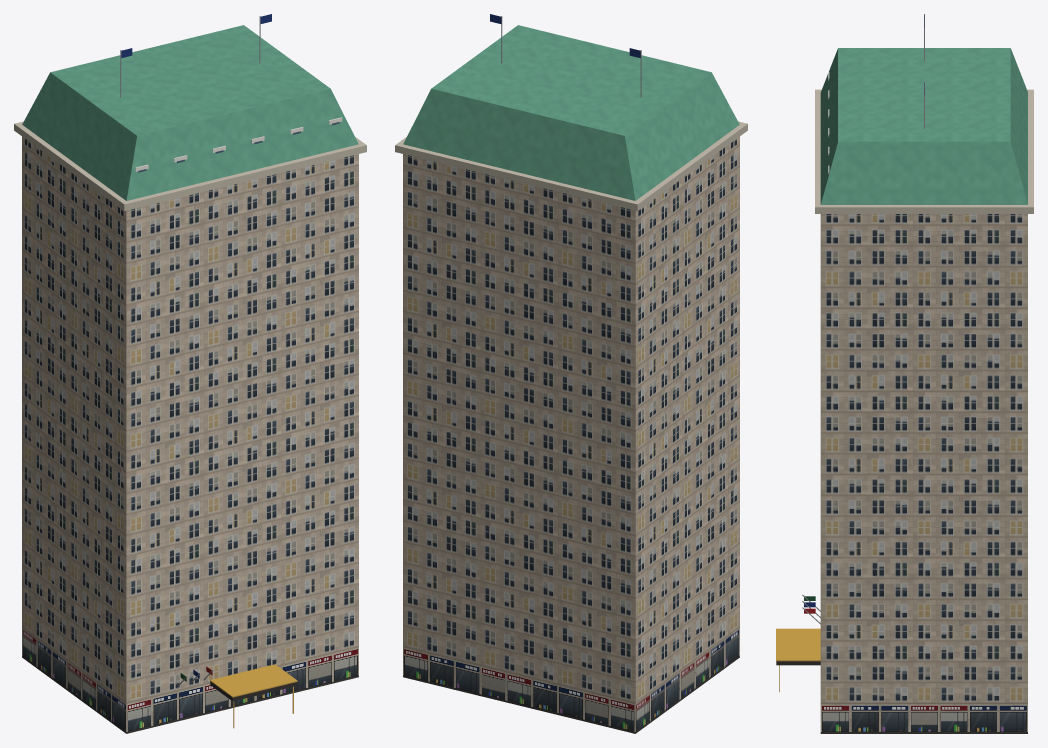
Rendered from 068_hotel_mansard.glb.
The picture shows the model from 3 angles, left to right: view 1: azimuth 30°, elevation 25°; view 2: azimuth 150°, elevation 25°; view 3: azimuth 270°, elevation 25°; orthographic projection.
Parts seen in each view (by area): view 1: 068_hotel_mansard; view 2: 068_hotel_mansard; view 3: 068_hotel_mansard.
Boxes of the visible parts, x1=… form: 068_hotel_mansard: x1=14, y1=14, x2=366, y2=733; 068_hotel_mansard: x1=395, y1=14, x2=747, y2=733; 068_hotel_mansard: x1=776, y1=14, x2=1033, y2=733.
Size of the model in its own units: 37.6 by 93.9 by 34.85.
13 materials, 4 textured.
